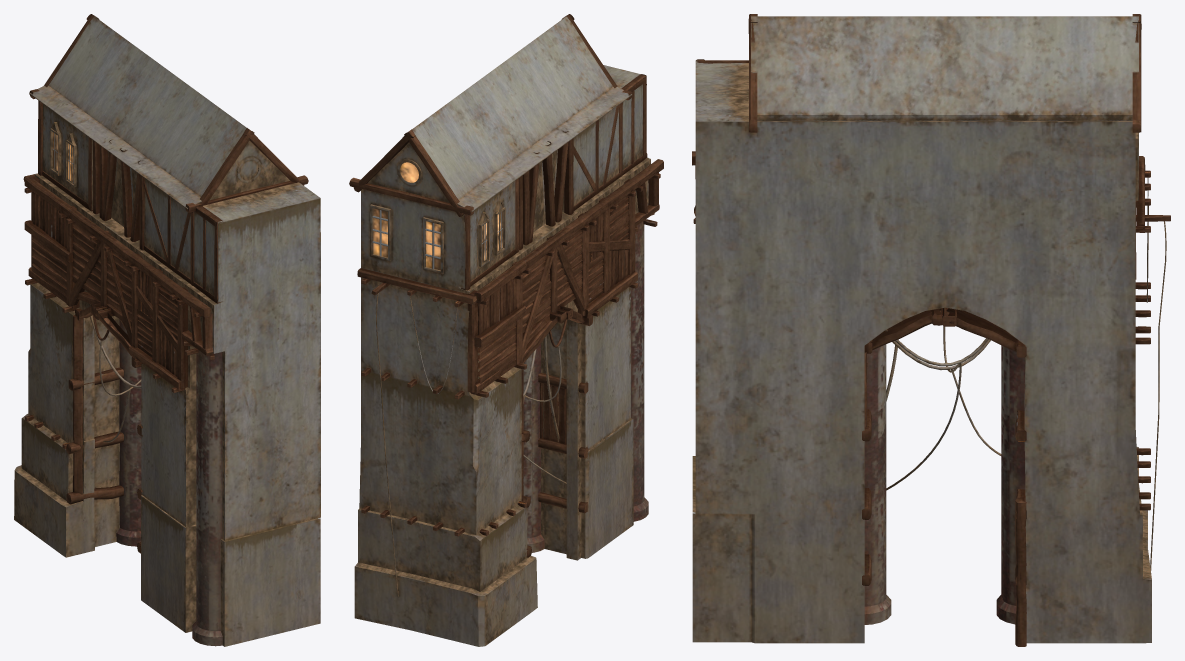
File: castle.glb
The picture shows the model from 3 angles, left to right: view 1: azimuth 30°, elevation 25°; view 2: azimuth 150°, elevation 25°; view 3: azimuth 270°, elevation 25°; orthographic projection. The views are drawn at different scales.
Visible parts, largest first — view 1: Base003; view 2: Base003; view 3: Base003.
Part boxes in pixels (x1,y1,x2,y2): Base003: [14, 14, 320, 646]; Base003: [349, 14, 663, 646]; Base003: [692, 14, 1170, 646].
Size of the model in its own units: 334 by 1139 by 820.
Materials: 1 (1 with a texture image).
